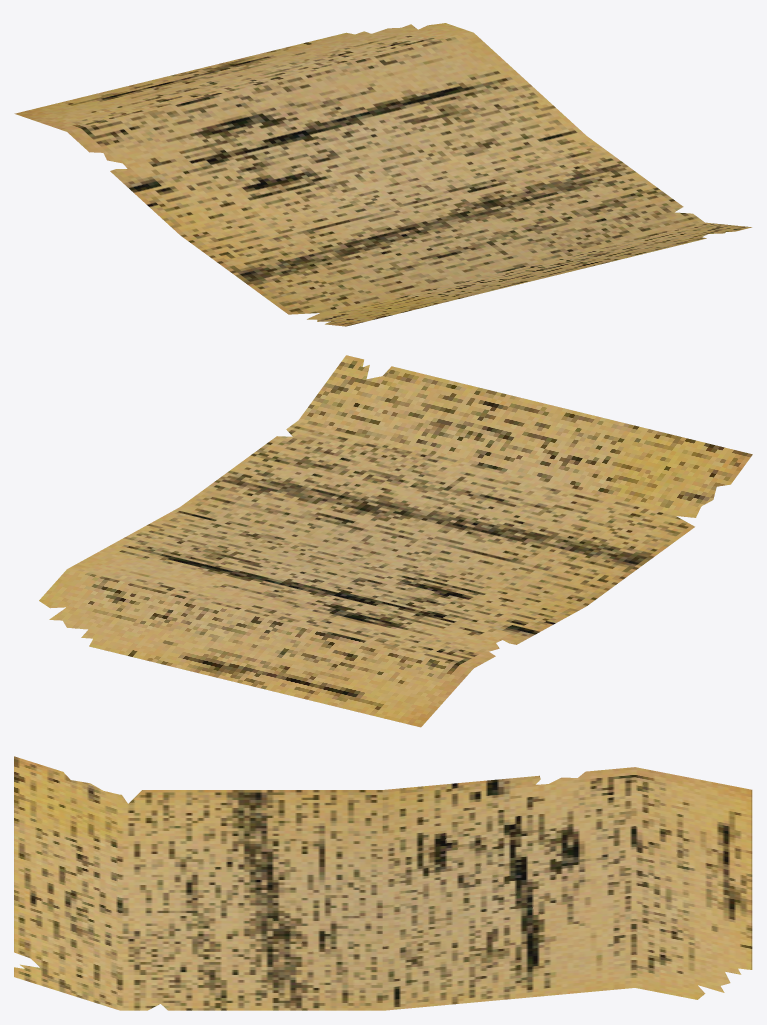
File: MorgueNote.glb
3 renders of one model, top to bottom at view 1: azimuth 30°, elevation 25°; view 2: azimuth 150°, elevation 25°; view 3: azimuth 270°, elevation 25°, orthographic. The views are drawn at different scales.
Parts seen in each view (by area): view 1: MorgueNote; view 2: MorgueNote; view 3: MorgueNote.
Boxes of the visible parts, x1,y1,x2,y2 form: MorgueNote: [14, 23, 751, 326]; MorgueNote: [39, 355, 752, 727]; MorgueNote: [14, 756, 752, 1010].
Size of the model in its own units: 0.21 by 0.0149 by 0.297.
1 material, 1 textured.
